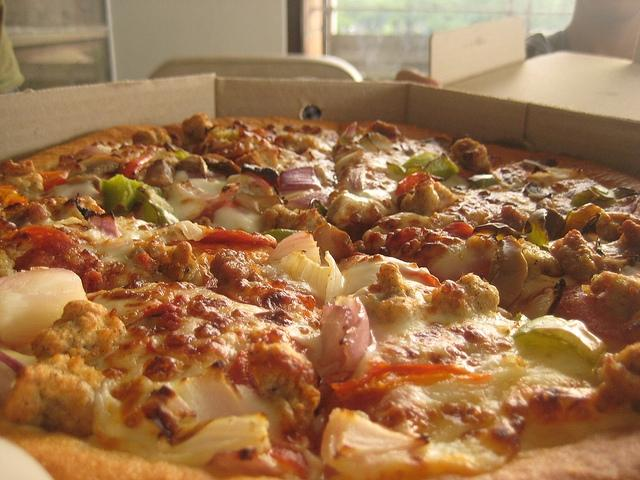bell pepper: (329, 362, 494, 404), (511, 315, 607, 365), (99, 174, 158, 224), (386, 152, 459, 182), (124, 152, 152, 180), (396, 172, 426, 196), (442, 222, 474, 239), (466, 174, 498, 190), (174, 151, 189, 159)
onion: (92, 387, 271, 467), (0, 268, 88, 355), (318, 295, 371, 384), (512, 315, 607, 361), (276, 251, 344, 306), (266, 231, 322, 266), (279, 165, 323, 191), (54, 180, 100, 199)
